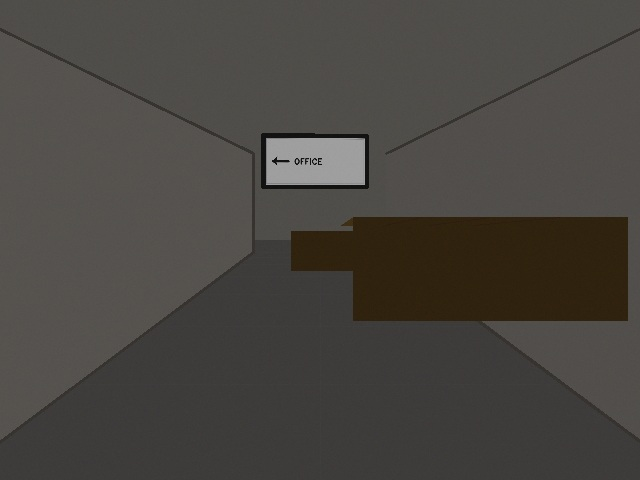directional_sign: (262, 134, 367, 187)
pallet: (341, 217, 627, 320), (291, 231, 395, 270)
